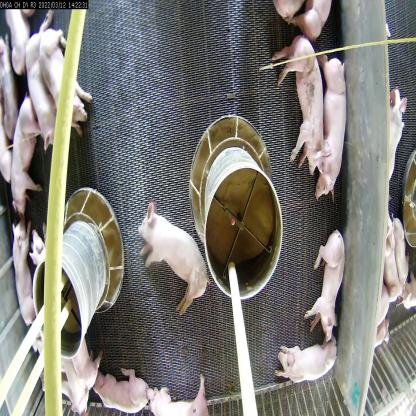Pig: (272, 20, 331, 188), (135, 196, 212, 316), (27, 29, 78, 182), (35, 16, 94, 138), (320, 43, 352, 219), (10, 99, 44, 219), (312, 218, 345, 339), (6, 218, 38, 328), (273, 337, 344, 385), (93, 362, 152, 416), (386, 66, 408, 202), (145, 378, 213, 416)
